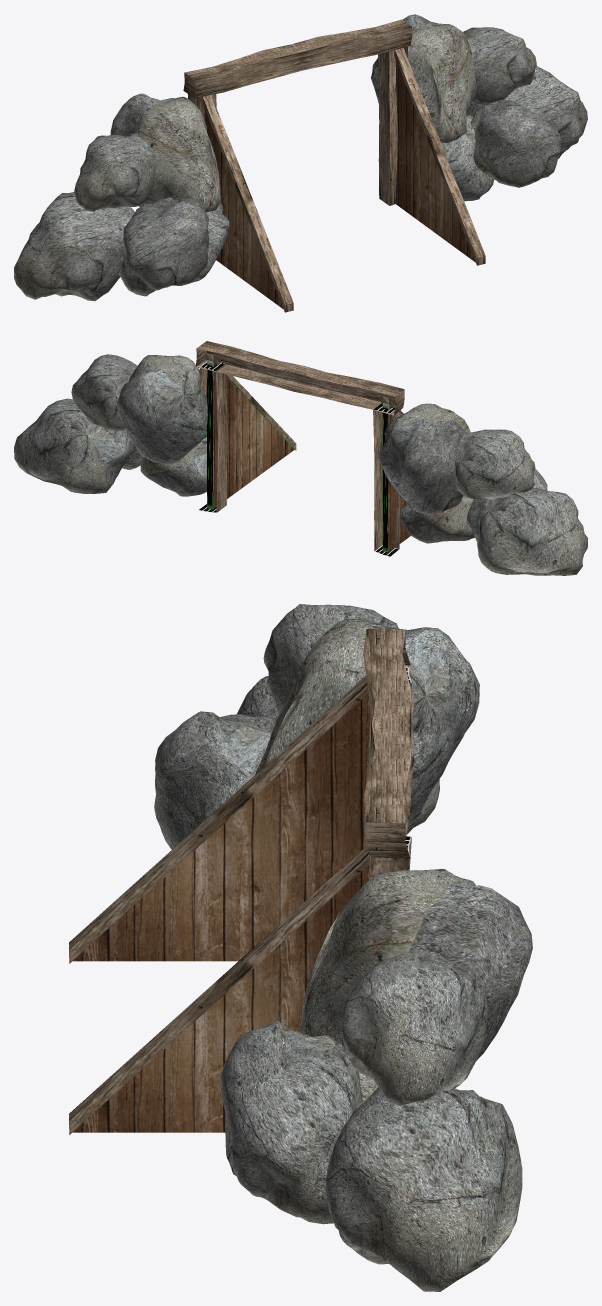
File: Mine_Enterance.FBX
3 views of the same model, one above another, from view 1: azimuth 30°, elevation 25°; view 2: azimuth 150°, elevation 25°; view 3: azimuth 270°, elevation 25° (orthographic). The views are drawn at different scales.
Visible parts, largest first — view 1: Rubble, Enterance; view 2: Rubble, Enterance; view 3: Rubble, Enterance.
Boxes of the visible parts, x1,y1,x2,y2 form: Rubble: [14, 14, 587, 301]; Enterance: [183, 19, 485, 312]; Rubble: [14, 354, 587, 575]; Enterance: [195, 341, 410, 556]; Rubble: [154, 604, 532, 1291]; Enterance: [69, 629, 414, 1134].
Size of the model in its own units: 952 by 354 by 279.
Materials: 2 (2 with a texture image).
